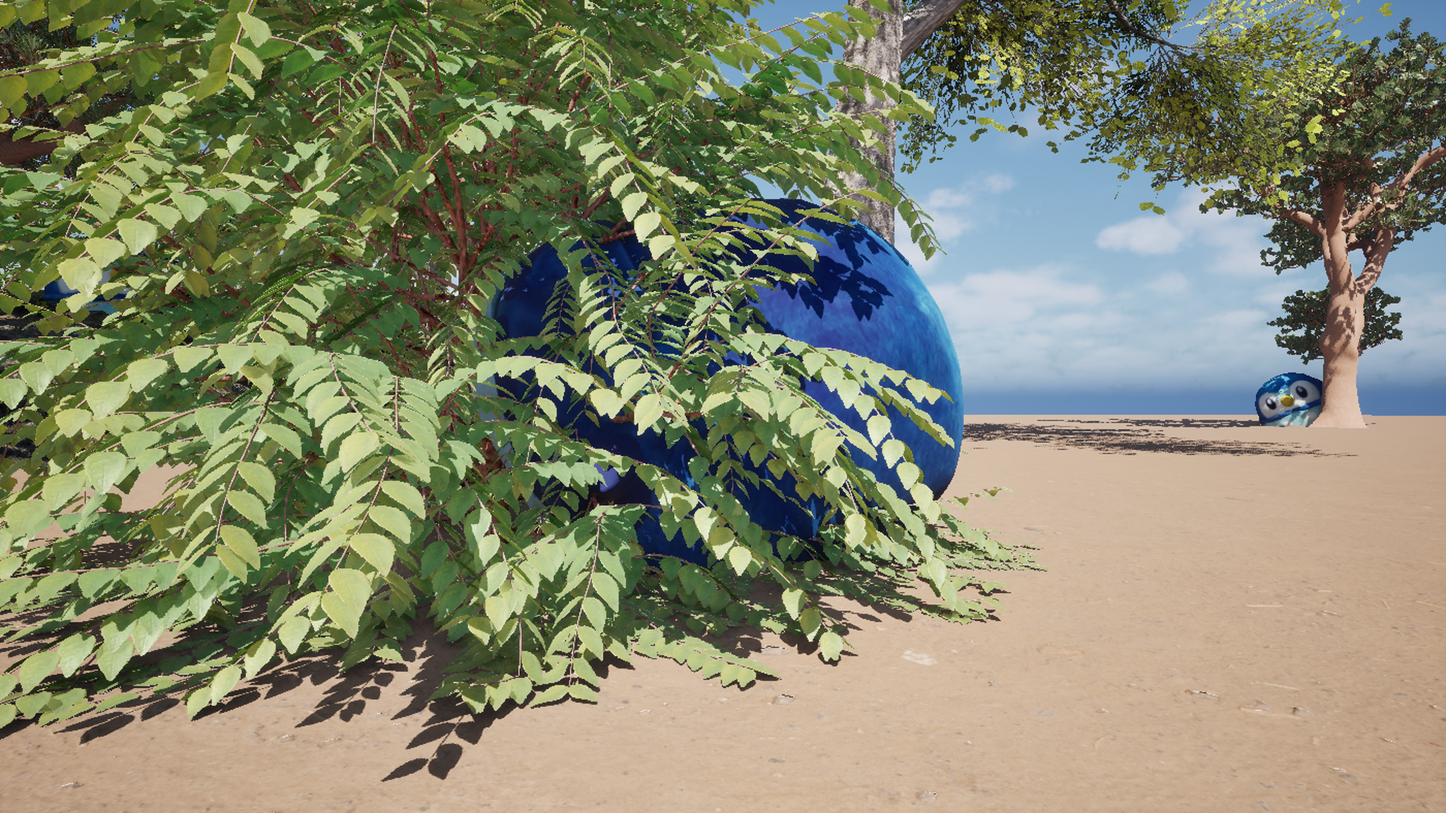Piplup: (278, 0, 1156, 813)
